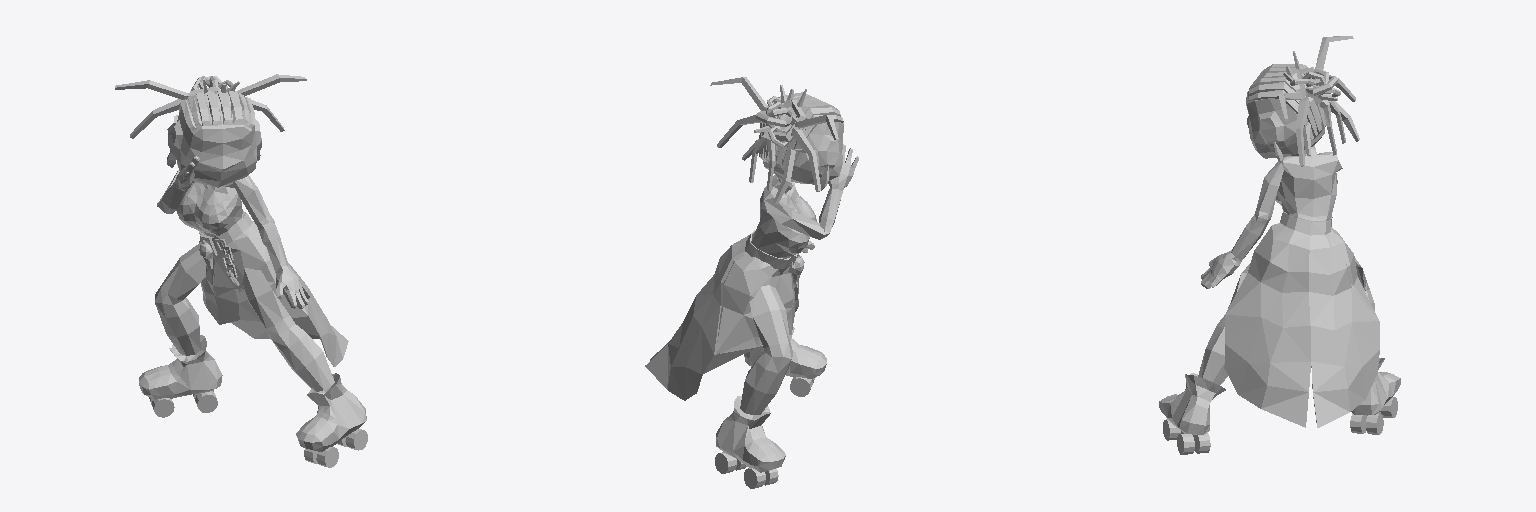
File: bruja_000020.obj
3 renders of one model, left to right at view 1: azimuth 30°, elevation 25°; view 2: azimuth 150°, elevation 25°; view 3: azimuth 270°, elevation 25°, orthographic.
Visible parts, largest first — view 1: Bruja_Plane.001; view 2: Bruja_Plane.001; view 3: Bruja_Plane.001.
Boxes of the visible parts, <box> form: Bruja_Plane.001: <box>115,74,367,467</box>; Bruja_Plane.001: <box>645,77,858,488</box>; Bruja_Plane.001: <box>1159,36,1400,454</box>.
Size of the model in its own units: 9.35 by 15.44 by 9.24.